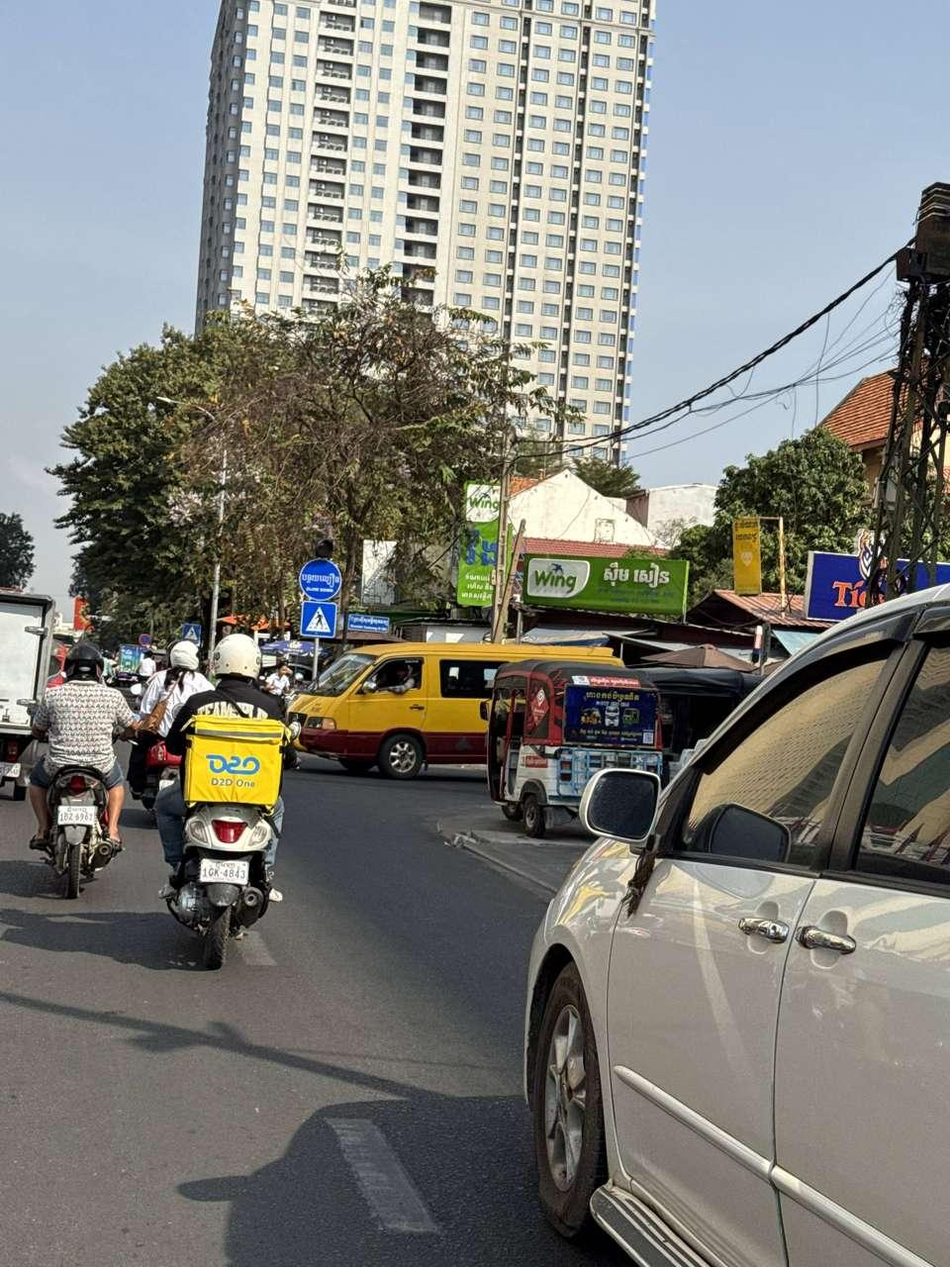parking_prohibited: (140, 634, 151, 646)
pedestrian_crossing: (301, 601, 337, 638), (182, 624, 202, 645)
slow_down: (301, 556, 342, 600)
